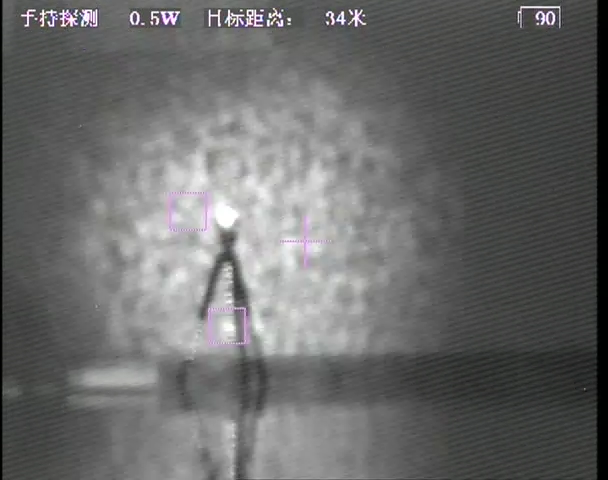my: (214, 205, 238, 230)
